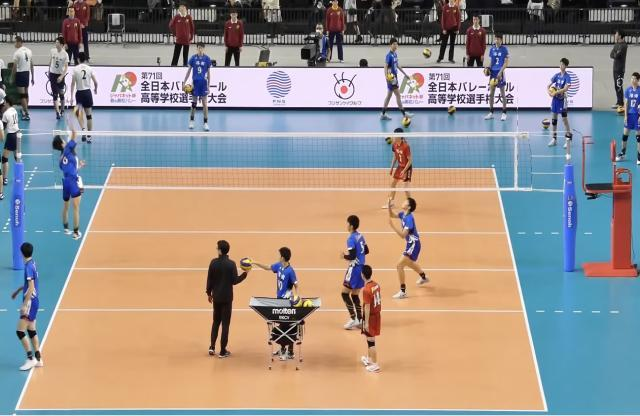spike: (51, 102, 94, 240)
